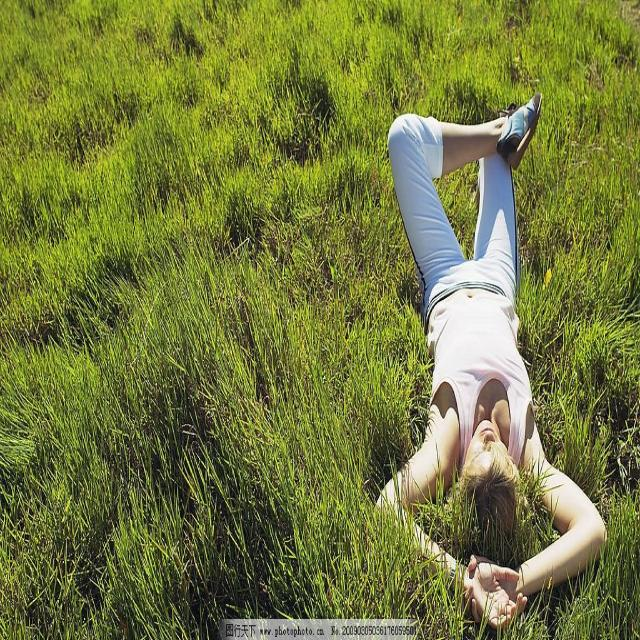lie: (366, 61, 594, 616)
